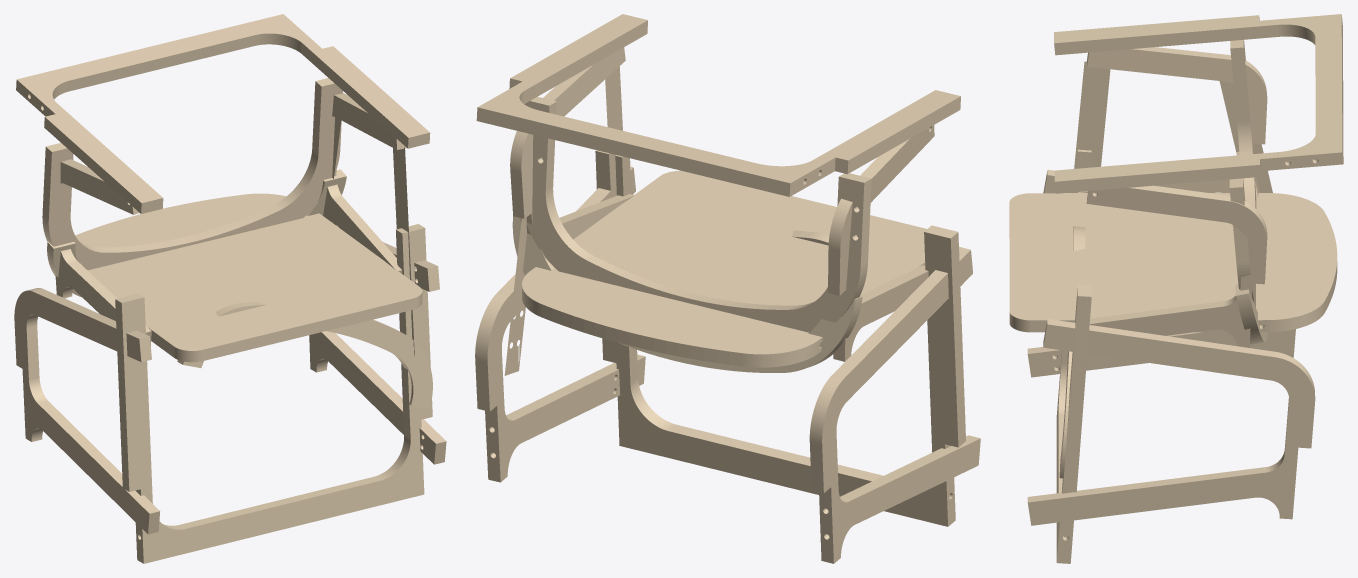
Rendered from flow-chair-parts.glb.
The picture shows the model from 3 angles, left to right: view 1: azimuth 30°, elevation 25°; view 2: azimuth 150°, elevation 25°; view 3: azimuth 270°, elevation 25°; orthographic projection. The views are drawn at different scales.
Visible parts, largest first — view 1: part-2, part-7, part-3, part-4, part-5, part-4-right, part-6-right, part-6, part-1-mirror, assembled-extra-04, part-1; view 2: part-2, part-7, part-3, part-4, part-5, part-4-right, part-6-right, part-6, part-1, assembled-extra-02, assembled-extra-04; view 3: part-2, part-4-right, part-3, part-6, part-6-right, part-7, part-5, part-4, assembled-extra-03, part-1, assembled-extra-01, part-1-mirror.
Part boxes in pixels (x1,y1,x2,y2): part-2: [75, 193, 422, 362]; part-7: [115, 224, 432, 563]; part-3: [16, 14, 430, 213]; part-4: [14, 288, 160, 534]; part-5: [42, 78, 342, 270]; part-4-right: [309, 225, 446, 464]; part-6-right: [55, 159, 151, 345]; part-6: [323, 93, 406, 273]; part-1-mirror: [177, 302, 432, 408]; assembled-extra-04: [393, 147, 414, 356]; part-1: [47, 169, 346, 297]; part-2: [522, 170, 926, 367]; part-7: [595, 150, 965, 526]; part-3: [476, 14, 960, 196]; part-4: [809, 246, 980, 563]; part-5: [524, 96, 871, 332]; part-4-right: [475, 166, 645, 482]; part-6-right: [828, 125, 934, 361]; part-6: [510, 47, 633, 239]; part-1: [512, 216, 862, 372]; assembled-extra-02: [504, 217, 526, 375]; assembled-extra-04: [605, 66, 622, 197]; part-2: [1009, 193, 1337, 332]; part-4-right: [1027, 319, 1315, 525]; part-3: [1054, 14, 1343, 193]; part-6: [1086, 185, 1267, 347]; part-6-right: [1078, 47, 1267, 192]; part-7: [1056, 149, 1091, 563]; part-5: [1229, 40, 1256, 306]; part-4: [1027, 169, 1295, 377]; assembled-extra-03: [1072, 61, 1110, 192]; part-1: [1235, 151, 1267, 344]; assembled-extra-01: [1219, 81, 1272, 192]; part-1-mirror: [1059, 226, 1085, 478].
Bounding box in the file's own units: 0.5039 × 0.6103 × 0.4516.
